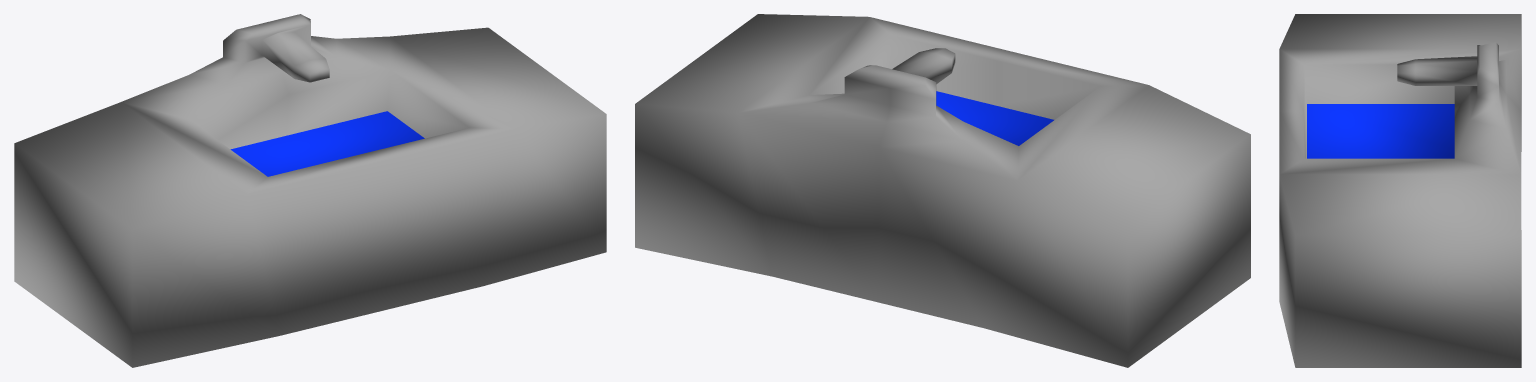
The model's file is sink.fbx.
3 views of the same model, side by side, from view 1: azimuth 30°, elevation 25°; view 2: azimuth 150°, elevation 25°; view 3: azimuth 270°, elevation 25° (orthographic). The views are drawn at different scales.
Visible parts, largest first — view 1: Cube; view 2: Cube; view 3: Cube.
Boxes of the visible parts, box(x1,y1,x2,y2) form: Cube: box(14, 14, 606, 367); Cube: box(635, 14, 1250, 367); Cube: box(1279, 14, 1521, 367).
Bounding box in the file's own units: 587 × 249 × 271.
